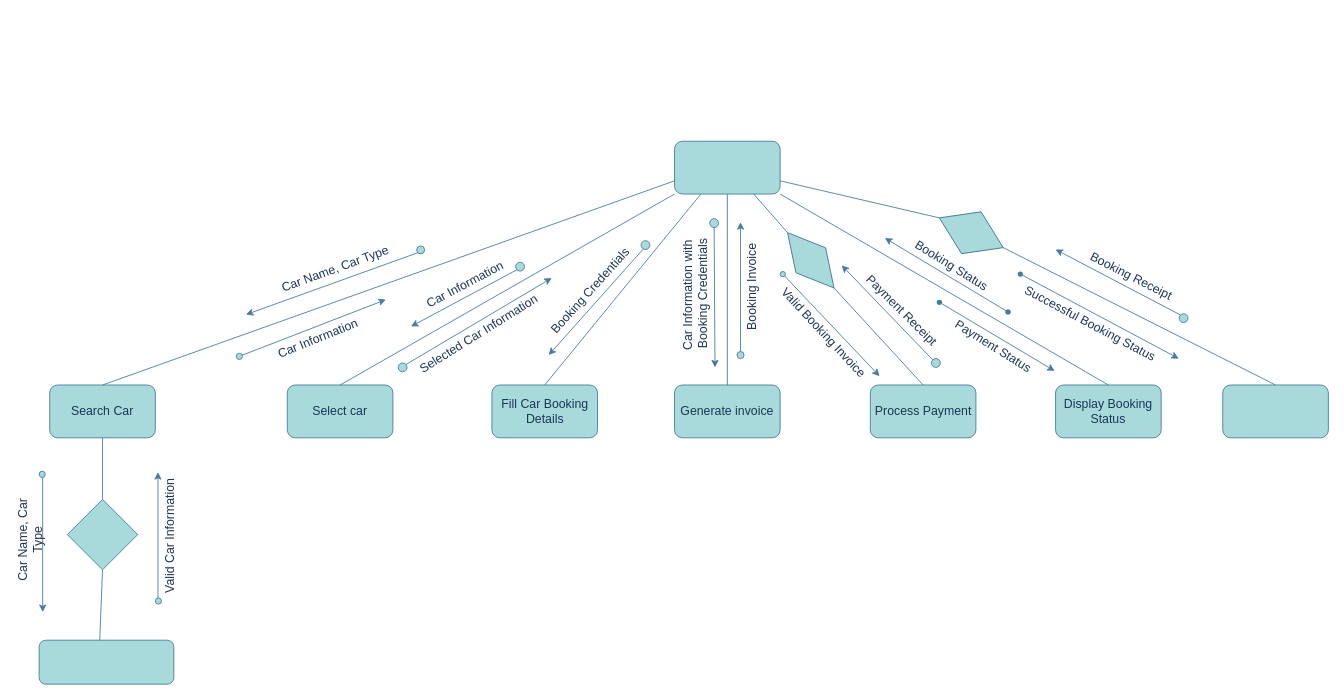
The diagram is 1344 pixels wide and 700 high, and some of its shapes have lost their labels. The shapes that lost their labels are listed below. From the top down, each one's centre as x and y in pixels, then its label:
(x=727, y=167): Book Car
(x=1275, y=411): Get Booking Receipt
(x=106, y=661): Fetch Car Information from Car Database
